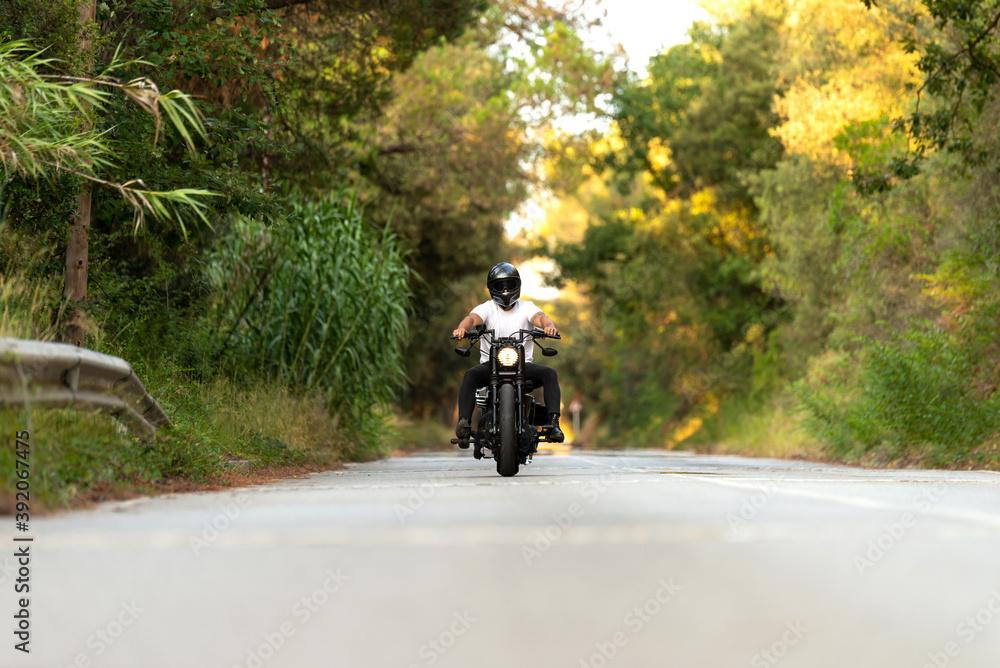helmet: (486, 261, 522, 308)
